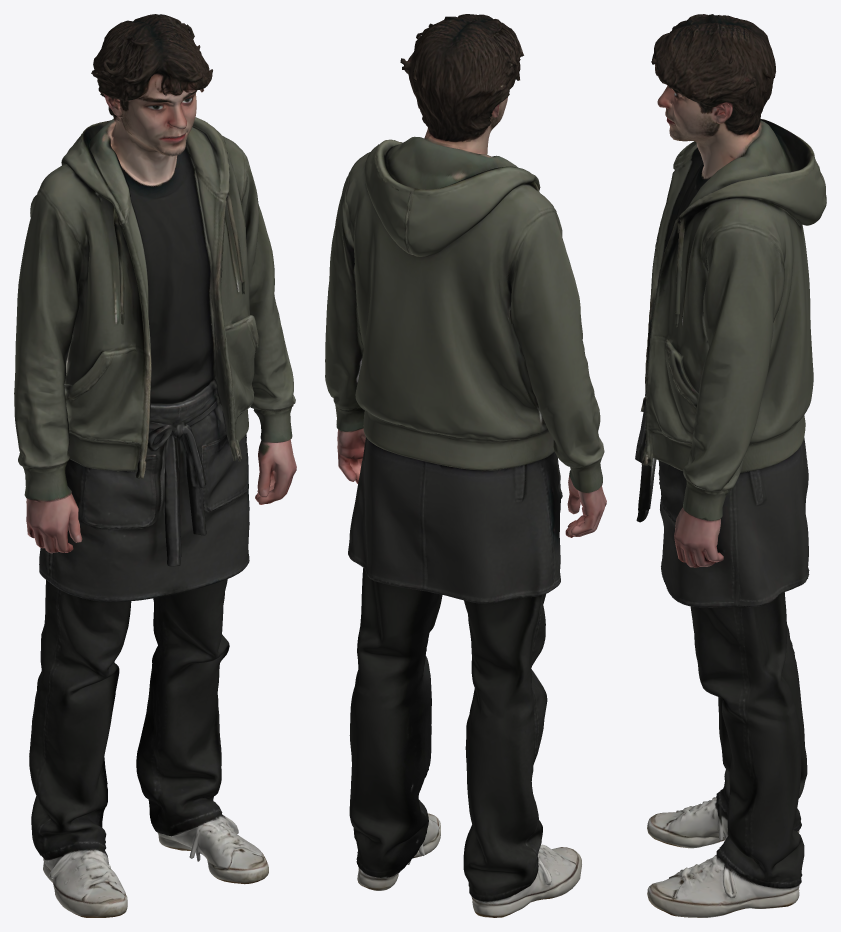
Rendered from theo.glb.
3 renders of one model, left to right at view 1: azimuth 30°, elevation 25°; view 2: azimuth 150°, elevation 25°; view 3: azimuth 270°, elevation 25°, orthographic.
Visible parts, largest first — view 1: tripo_node_5c9828e3-547a-400d-9131-abae8577b9d9; view 2: tripo_node_5c9828e3-547a-400d-9131-abae8577b9d9; view 3: tripo_node_5c9828e3-547a-400d-9131-abae8577b9d9.
Part boxes in pixels (x1,y1,x2,y2): tripo_node_5c9828e3-547a-400d-9131-abae8577b9d9: (14,14,296,917); tripo_node_5c9828e3-547a-400d-9131-abae8577b9d9: (325,14,606,917); tripo_node_5c9828e3-547a-400d-9131-abae8577b9d9: (635,14,826,917).
Size of the model in its own units: 0.3219 by 0.9818 by 0.1994.
1 material, 1 textured.
